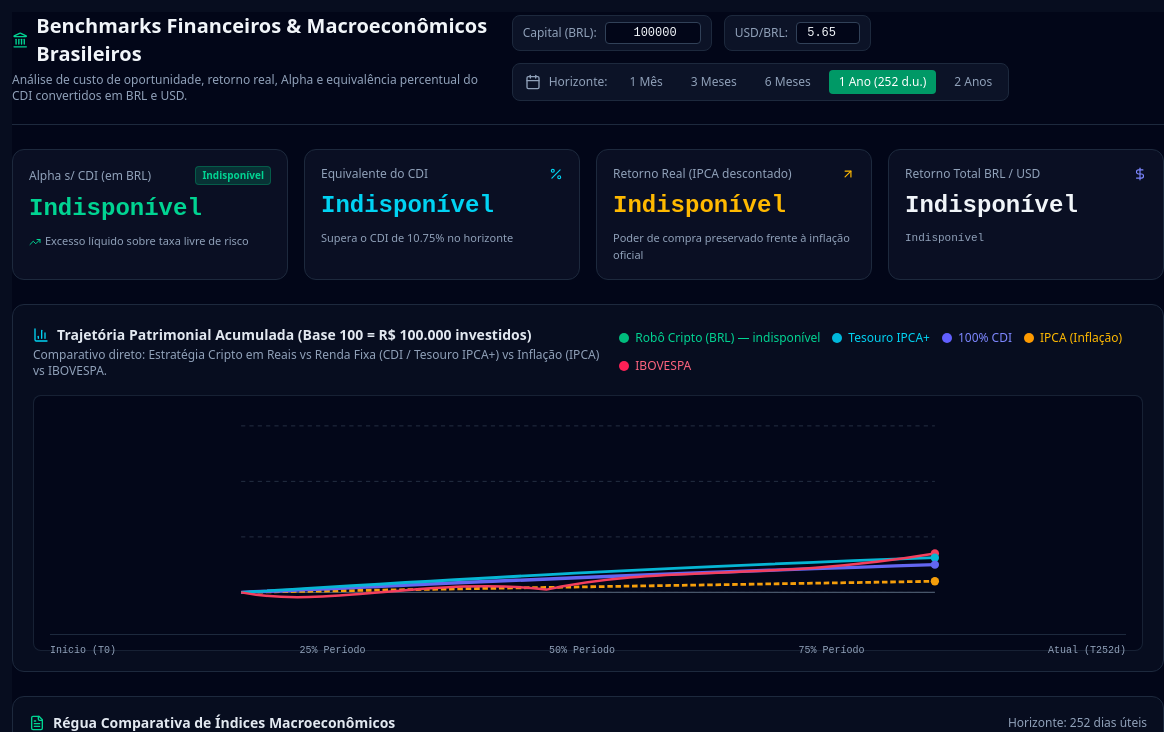
Test: BenchmarkDashboardView (Brazilian Benchmarks) › renders CDI, Selic, IPCA, Tesouro and switches time horizon
Expected: the heading "Benchmarks Financeiros & Macroeconômicos Brasileiros" is shown, [36, 12, 496, 68]
Expected: the text "Alpha s/ CDI (em BRL)" is shown, [29, 168, 151, 184]
Switch horizon to 3 Meses
Click the button "3 Meses".
click(714, 82)  # box [681, 70, 747, 94]
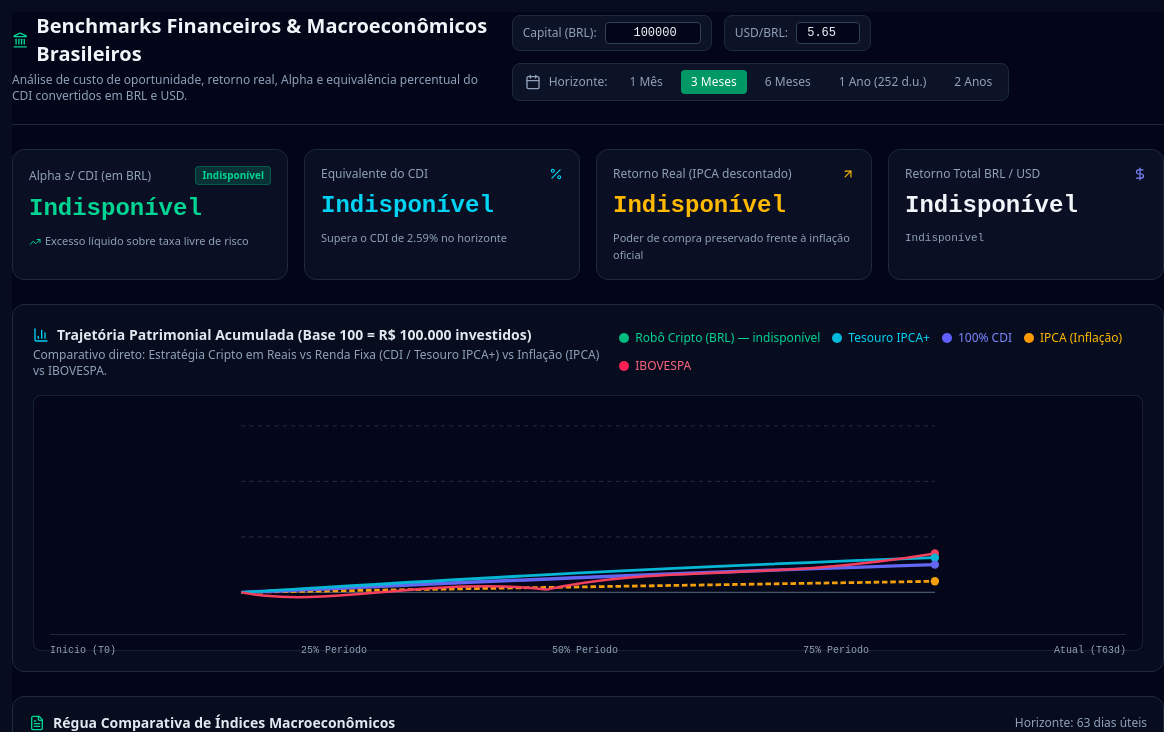
Now the text "Horizonte: 63 dias úteis" is shown, box [1015, 715, 1147, 731]
